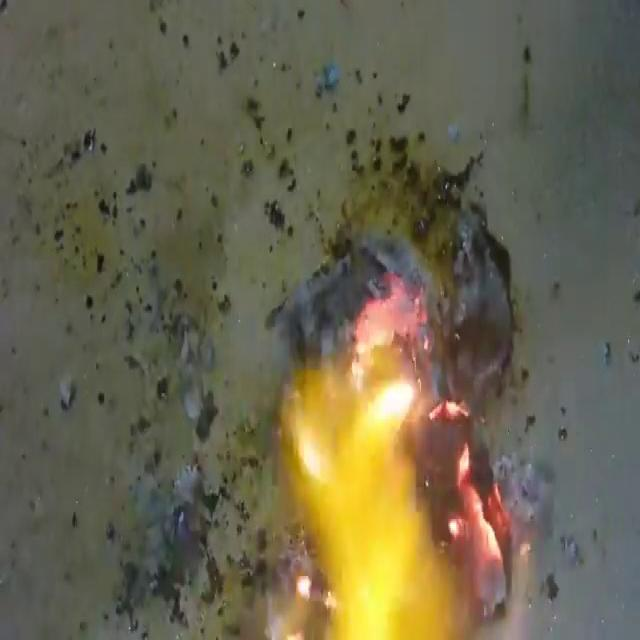Fire: (222, 158, 554, 640)
